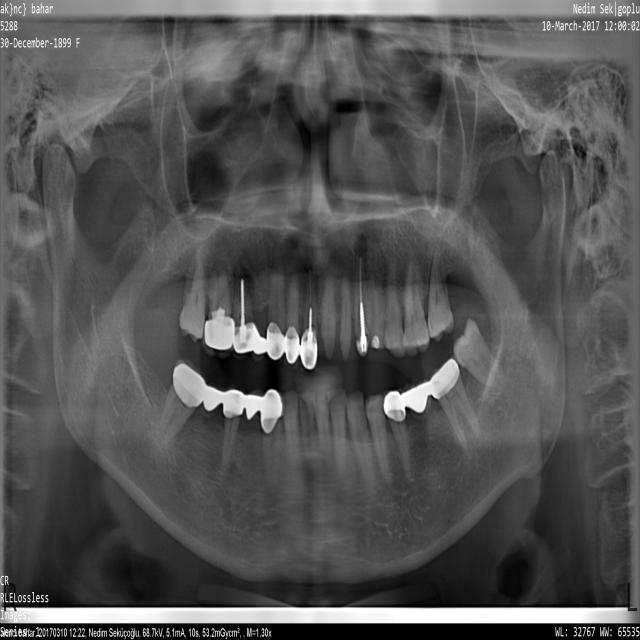Canine: (347, 393, 373, 492), (268, 242, 285, 359), (262, 395, 281, 490), (354, 246, 370, 356)
Incisores: (328, 390, 345, 483), (302, 270, 317, 371), (285, 272, 300, 368), (321, 269, 335, 360), (314, 391, 330, 468), (282, 391, 299, 463), (300, 393, 315, 469), (341, 269, 351, 362)
Premolars: (385, 390, 413, 483), (365, 396, 395, 482), (385, 250, 406, 358), (368, 236, 386, 349), (232, 265, 253, 359), (250, 274, 268, 362), (223, 389, 243, 466), (246, 392, 262, 469)
molars: (431, 359, 484, 450), (155, 359, 206, 446), (453, 318, 507, 394), (404, 380, 446, 452), (403, 259, 430, 356), (428, 244, 455, 341), (202, 271, 232, 357), (179, 248, 205, 343), (192, 385, 223, 452)
